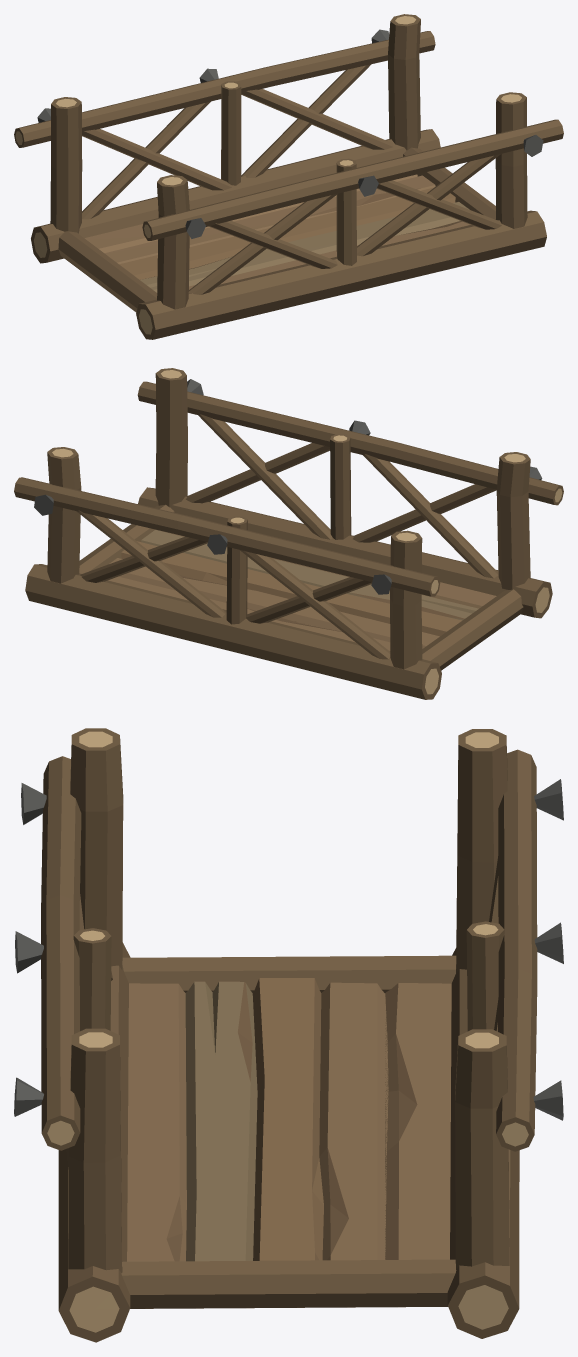
The model's file is rpgpp_ag_gate_balcony_01a.fbx.
3 views of the same model, one above another, from view 1: azimuth 30°, elevation 25°; view 2: azimuth 150°, elevation 25°; view 3: azimuth 270°, elevation 25° (orthographic). The views are drawn at different scales.
Parts seen in each view (by area): view 1: rpgpp_ag_gate_balcony_01a; view 2: rpgpp_ag_gate_balcony_01a; view 3: rpgpp_ag_gate_balcony_01a.
Part boxes in pixels (x1,y1,x2,y2): rpgpp_ag_gate_balcony_01a: (14,14,563,339); rpgpp_ag_gate_balcony_01a: (14,368,563,699); rpgpp_ag_gate_balcony_01a: (14,728,563,1342).
Bounding box in the file's own units: 4.83 × 1.72 × 3.06.
